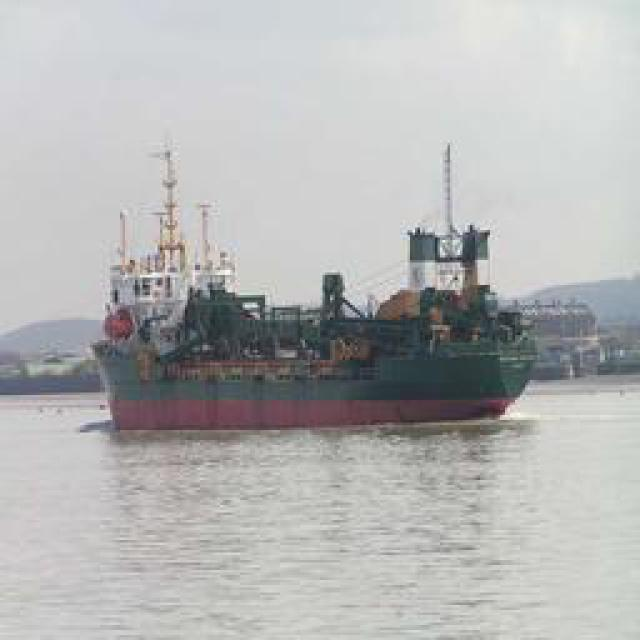Ship: (98, 124, 533, 429)
